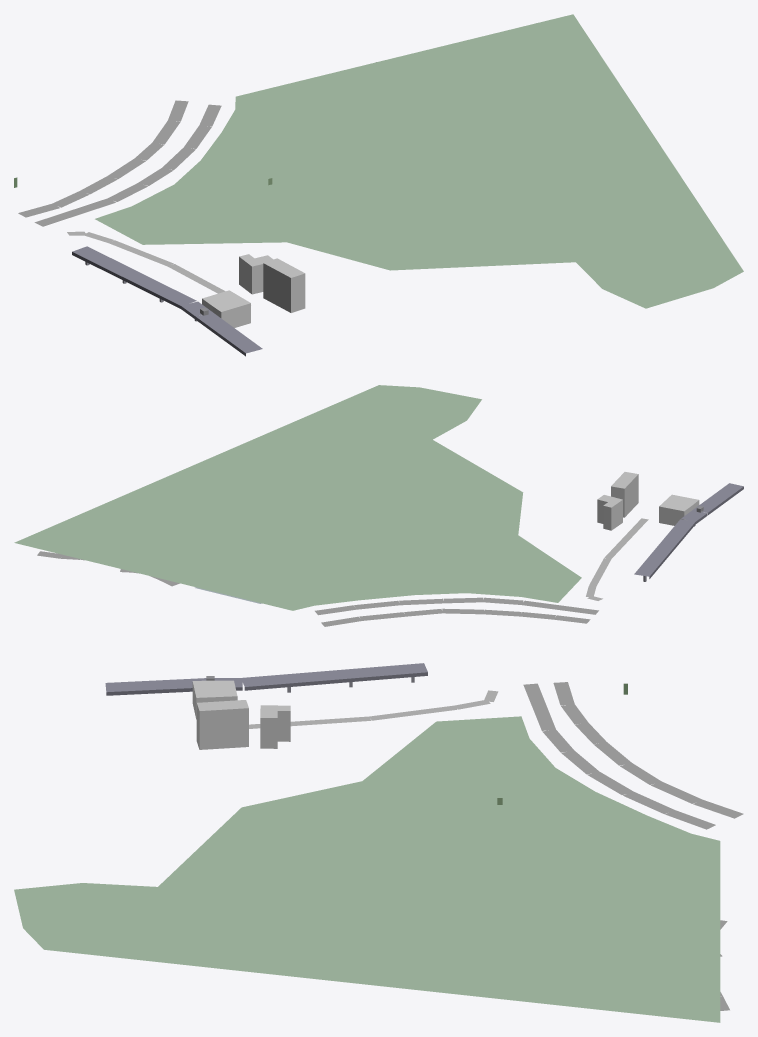
The picture shows the model from 3 angles, top to bottom: view 1: azimuth 30°, elevation 25°; view 2: azimuth 150°, elevation 25°; view 3: azimuth 270°, elevation 25°; orthographic projection. The views are drawn at different scales.
Bounding box in the file's own units: 386 × 23.64 × 348.
